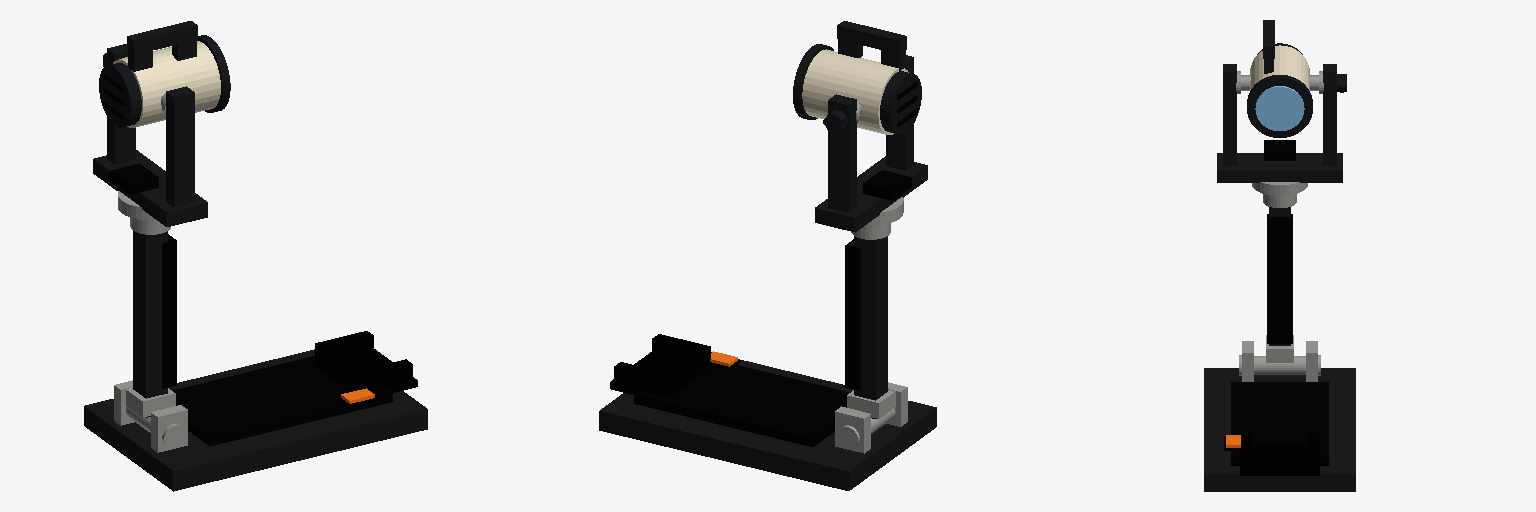
robot.urdf — desktop_searchlight_tower:
<robot name="desktop_searchlight_tower">
  <material name="graphite">
    <color rgba="0.11 0.12 0.13 1" />
    </material>
  <material name="satin_black">
    <color rgba="0.025 0.027 0.03 1" />
    </material>
  <material name="warm_white">
    <color rgba="0.92 0.88 0.78 1" />
    </material>
  <material name="brushed_steel">
    <color rgba="0.63 0.64 0.62 1" />
    </material>
  <material name="rubber">
    <color rgba="0.015 0.015 0.014 1" />
    </material>
  <material name="cool_lens">
    <color rgba="0.55 0.78 0.95 0.42" />
    </material>
  <material name="amber_switch">
    <color rgba="1 0.48 0.12 1" />
    </material>
  <link name="base">
    <visual name="base_plate">
      <origin xyz="0.04 0 0.0175" rpy="0 0 0" />
      <geometry>
        <box size="0.46 0.28 0.035" />
        </geometry>
      <material name="graphite">
        <color rgba="0.11 0.12 0.13 1" />
        </material>
      </visual>
    <visual name="top_inset">
      <origin xyz="0.07 0 0.043" rpy="0 0 0" />
      <geometry>
        <box size="0.33 0.18 0.016" />
        </geometry>
      <material name="satin_black">
        <color rgba="0.025 0.027 0.03 1" />
        </material>
      </visual>
    <visual name="hinge_ear_0">
      <origin xyz="-0.15 -0.058 0.059" rpy="0 0 0" />
      <geometry>
        <box size="0.055 0.022 0.075" />
        </geometry>
      <material name="brushed_steel">
        <color rgba="0.63 0.64 0.62 1" />
        </material>
      </visual>
    <visual name="hinge_washer_0">
      <origin xyz="-0.15 -0.07192 0.059" rpy="1.5708 0 0" />
      <geometry>
        <cylinder radius="0.019" length="0.006" />
        </geometry>
      <material name="brushed_steel">
        <color rgba="0.63 0.64 0.62 1" />
        </material>
      </visual>
    <visual name="hinge_ear_1">
      <origin xyz="-0.15 0.058 0.059" rpy="0 0 0" />
      <geometry>
        <box size="0.055 0.022 0.075" />
        </geometry>
      <material name="brushed_steel">
        <color rgba="0.63 0.64 0.62 1" />
        </material>
      </visual>
    <visual name="hinge_washer_1">
      <origin xyz="-0.15 0.07192 0.059" rpy="1.5708 0 0" />
      <geometry>
        <cylinder radius="0.019" length="0.006" />
        </geometry>
      <material name="brushed_steel">
        <color rgba="0.63 0.64 0.62 1" />
        </material>
      </visual>
    <visual name="stow_pad">
      <origin xyz="0.235 0 0.047" rpy="0 0 0" />
      <geometry>
        <box size="0.11 0.145 0.012" />
        </geometry>
      <material name="rubber">
        <color rgba="0.015 0.015 0.014 1" />
        </material>
      </visual>
    <visual name="stow_cradle_0">
      <origin xyz="0.235 -0.061 0.064" rpy="0 0 0" />
      <geometry>
        <box size="0.095 0.022 0.036" />
        </geometry>
      <material name="rubber">
        <color rgba="0.015 0.015 0.014 1" />
        </material>
      </visual>
    <visual name="stow_cradle_1">
      <origin xyz="0.235 0.061 0.064" rpy="0 0 0" />
      <geometry>
        <box size="0.095 0.022 0.036" />
        </geometry>
      <material name="rubber">
        <color rgba="0.015 0.015 0.014 1" />
        </material>
      </visual>
    <visual name="foot_-0.14_-0.1">
      <origin xyz="-0.14 -0.1 0.003" rpy="0 0 0" />
      <geometry>
        <cylinder radius="0.028" length="0.006" />
        </geometry>
      <material name="rubber">
        <color rgba="0.015 0.015 0.014 1" />
        </material>
      </visual>
    <visual name="foot_-0.14_0.1">
      <origin xyz="-0.14 0.1 0.003" rpy="0 0 0" />
      <geometry>
        <cylinder radius="0.028" length="0.006" />
        </geometry>
      <material name="rubber">
        <color rgba="0.015 0.015 0.014 1" />
        </material>
      </visual>
    <visual name="foot_0.23_-0.1">
      <origin xyz="0.23 -0.1 0.003" rpy="0 0 0" />
      <geometry>
        <cylinder radius="0.028" length="0.006" />
        </geometry>
      <material name="rubber">
        <color rgba="0.015 0.015 0.014 1" />
        </material>
      </visual>
    <visual name="foot_0.23_0.1">
      <origin xyz="0.23 0.1 0.003" rpy="0 0 0" />
      <geometry>
        <cylinder radius="0.028" length="0.006" />
        </geometry>
      <material name="rubber">
        <color rgba="0.015 0.015 0.014 1" />
        </material>
      </visual>
    <collision name="base_plate">
      <origin xyz="0.04 0 0.0175" rpy="0 0 0" />
      <geometry>
        <box size="0.46 0.28 0.035" />
        </geometry>
      </collision>
    <collision name="top_inset">
      <origin xyz="0.07 0 0.043" rpy="0 0 0" />
      <geometry>
        <box size="0.33 0.18 0.016" />
        </geometry>
      </collision>
    <collision name="hinge_ear_0">
      <origin xyz="-0.15 -0.058 0.059" rpy="0 0 0" />
      <geometry>
        <box size="0.055 0.022 0.075" />
        </geometry>
      </collision>
    <collision name="hinge_washer_0">
      <origin xyz="-0.15 -0.07192 0.059" rpy="1.5708 0 0" />
      <geometry>
        <cylinder radius="0.019" length="0.006" />
        </geometry>
      </collision>
    <collision name="hinge_ear_1">
      <origin xyz="-0.15 0.058 0.059" rpy="0 0 0" />
      <geometry>
        <box size="0.055 0.022 0.075" />
        </geometry>
      </collision>
    <collision name="hinge_washer_1">
      <origin xyz="-0.15 0.07192 0.059" rpy="1.5708 0 0" />
      <geometry>
        <cylinder radius="0.019" length="0.006" />
        </geometry>
      </collision>
    <collision name="stow_pad">
      <origin xyz="0.235 0 0.047" rpy="0 0 0" />
      <geometry>
        <box size="0.11 0.145 0.012" />
        </geometry>
      </collision>
    <collision name="stow_cradle_0">
      <origin xyz="0.235 -0.061 0.064" rpy="0 0 0" />
      <geometry>
        <box size="0.095 0.022 0.036" />
        </geometry>
      </collision>
    <collision name="stow_cradle_1">
      <origin xyz="0.235 0.061 0.064" rpy="0 0 0" />
      <geometry>
        <box size="0.095 0.022 0.036" />
        </geometry>
      </collision>
    <collision name="foot_-0.14_-0.1">
      <origin xyz="-0.14 -0.1 0.003" rpy="0 0 0" />
      <geometry>
        <cylinder radius="0.028" length="0.006" />
        </geometry>
      </collision>
    <collision name="foot_-0.14_0.1">
      <origin xyz="-0.14 0.1 0.003" rpy="0 0 0" />
      <geometry>
        <cylinder radius="0.028" length="0.006" />
        </geometry>
      </collision>
    <collision name="foot_0.23_-0.1">
      <origin xyz="0.23 -0.1 0.003" rpy="0 0 0" />
      <geometry>
        <cylinder radius="0.028" length="0.006" />
        </geometry>
      </collision>
    <collision name="foot_0.23_0.1">
      <origin xyz="0.23 0.1 0.003" rpy="0 0 0" />
      <geometry>
        <cylinder radius="0.028" length="0.006" />
        </geometry>
      </collision>
    </link>
  <link name="folding_mast">
    <visual name="hinge_knuckle">
      <origin xyz="0 0 0" rpy="1.5708 0 0" />
      <geometry>
        <cylinder radius="0.018" length="0.094" />
        </geometry>
      <material name="brushed_steel">
        <color rgba="0.63 0.64 0.62 1" />
        </material>
      </visual>
    <visual name="mast_tube">
      <origin xyz="0 0 0.174" rpy="0 0 0" />
      <geometry>
        <box size="0.04 0.04 0.318" />
        </geometry>
      <material name="graphite">
        <color rgba="0.11 0.12 0.13 1" />
        </material>
      </visual>
    <visual name="root_collar">
      <origin xyz="0 0 0.034" rpy="0 0 0" />
      <geometry>
        <box size="0.06 0.052 0.028" />
        </geometry>
      <material name="brushed_steel">
        <color rgba="0.63 0.64 0.62 1" />
        </material>
      </visual>
    <visual name="pan_socket">
      <origin xyz="0 0 0.35" rpy="0 0 0" />
      <geometry>
        <cylinder radius="0.032" length="0.034" />
        </geometry>
      <material name="brushed_steel">
        <color rgba="0.63 0.64 0.62 1" />
        </material>
      </visual>
    <visual name="cable_channel">
      <origin xyz="0.021 0 0.185" rpy="0 0 0" />
      <geometry>
        <box size="0.026 0.048 0.25" />
        </geometry>
      <material name="satin_black">
        <color rgba="0.025 0.027 0.03 1" />
        </material>
      </visual>
    <collision name="hinge_knuckle">
      <origin xyz="0 0 0" rpy="1.5708 0 0" />
      <geometry>
        <cylinder radius="0.018" length="0.094" />
        </geometry>
      </collision>
    <collision name="mast_tube">
      <origin xyz="0 0 0.174" rpy="0 0 0" />
      <geometry>
        <box size="0.04 0.04 0.318" />
        </geometry>
      </collision>
    <collision name="root_collar">
      <origin xyz="0 0 0.034" rpy="0 0 0" />
      <geometry>
        <box size="0.06 0.052 0.028" />
        </geometry>
      </collision>
    <collision name="pan_socket">
      <origin xyz="0 0 0.35" rpy="0 0 0" />
      <geometry>
        <cylinder radius="0.032" length="0.034" />
        </geometry>
      </collision>
    <collision name="cable_channel">
      <origin xyz="0.021 0 0.185" rpy="0 0 0" />
      <geometry>
        <box size="0.026 0.048 0.25" />
        </geometry>
      </collision>
    </link>
  <link name="pan_yoke">
    <visual name="pan_turntable">
      <origin xyz="0 0 0.011" rpy="0 0 0" />
      <geometry>
        <cylinder radius="0.052" length="0.022" />
        </geometry>
      <material name="brushed_steel">
        <color rgba="0.63 0.64 0.62 1" />
        </material>
      </visual>
    <visual name="lower_crossbar">
      <origin xyz="0 0 0.032" rpy="0 0 0" />
      <geometry>
        <box size="0.075 0.23 0.026" />
        </geometry>
      <material name="graphite">
        <color rgba="0.11 0.12 0.13 1" />
        </material>
      </visual>
    <visual name="yoke_arm_0">
      <origin xyz="0 -0.092 0.126" rpy="0 0 0" />
      <geometry>
        <box size="0.038 0.026 0.218" />
        </geometry>
      <material name="graphite">
        <color rgba="0.11 0.12 0.13 1" />
        </material>
      </visual>
    <visual name="bearing_cup_0">
      <origin xyz="0 -0.076 0.205" rpy="1.5708 0 0" />
      <geometry>
        <cylinder radius="0.021" length="0.01" />
        </geometry>
      <material name="brushed_steel">
        <color rgba="0.63 0.64 0.62 1" />
        </material>
      </visual>
    <visual name="yoke_arm_1">
      <origin xyz="0 0.092 0.126" rpy="0 0 0" />
      <geometry>
        <box size="0.038 0.026 0.218" />
        </geometry>
      <material name="graphite">
        <color rgba="0.11 0.12 0.13 1" />
        </material>
      </visual>
    <visual name="bearing_cup_1">
      <origin xyz="0 0.076 0.205" rpy="1.5708 0 0" />
      <geometry>
        <cylinder radius="0.021" length="0.01" />
        </geometry>
      <material name="brushed_steel">
        <color rgba="0.63 0.64 0.62 1" />
        </material>
      </visual>
    <visual name="pan_stop_block">
      <origin xyz="-0.03 0 0.054" rpy="0 0 0" />
      <geometry>
        <box size="0.055 0.06 0.018" />
        </geometry>
      <material name="satin_black">
        <color rgba="0.025 0.027 0.03 1" />
        </material>
      </visual>
    <collision name="pan_turntable">
      <origin xyz="0 0 0.011" rpy="0 0 0" />
      <geometry>
        <cylinder radius="0.052" length="0.022" />
        </geometry>
      </collision>
    <collision name="lower_crossbar">
      <origin xyz="0 0 0.032" rpy="0 0 0" />
      <geometry>
        <box size="0.075 0.23 0.026" />
        </geometry>
      </collision>
    <collision name="yoke_arm_0">
      <origin xyz="0 -0.092 0.126" rpy="0 0 0" />
      <geometry>
        <box size="0.038 0.026 0.218" />
        </geometry>
      </collision>
    <collision name="bearing_cup_0">
      <origin xyz="0 -0.076 0.205" rpy="1.5708 0 0" />
      <geometry>
        <cylinder radius="0.021" length="0.01" />
        </geometry>
      </collision>
    <collision name="yoke_arm_1">
      <origin xyz="0 0.092 0.126" rpy="0 0 0" />
      <geometry>
        <box size="0.038 0.026 0.218" />
        </geometry>
      </collision>
    <collision name="bearing_cup_1">
      <origin xyz="0 0.076 0.205" rpy="1.5708 0 0" />
      <geometry>
        <cylinder radius="0.021" length="0.01" />
        </geometry>
      </collision>
    <collision name="pan_stop_block">
      <origin xyz="-0.03 0 0.054" rpy="0 0 0" />
      <geometry>
        <box size="0.055 0.06 0.018" />
        </geometry>
      </collision>
    </link>
  <link name="spotlight_head">
    <visual name="housing_shell">
      <origin xyz="0.025 0 0" rpy="0 1.5708 0" />
      <geometry>
        <cylinder radius="0.055" length="0.14" />
        </geometry>
      <material name="warm_white">
        <color rgba="0.92 0.88 0.78 1" />
        </material>
      </visual>
    <visual name="rear_cap">
      <origin xyz="-0.055 0 0" rpy="0 1.5708 0" />
      <geometry>
        <cylinder radius="0.05" length="0.02" />
        </geometry>
      <material name="graphite">
        <color rgba="0.11 0.12 0.13 1" />
        </material>
      </visual>
    <visual name="front_bezel">
      <origin xyz="0.102 0 0" rpy="0 1.5708 0" />
      <geometry>
        <mesh filename="assets/meshes/spotlight_front_bezel.obj" />
        </geometry>
      <material name="graphite">
        <color rgba="0.11 0.12 0.13 1" />
        </material>
      </visual>
    <visual name="front_lens">
      <origin xyz="0.111 0 0" rpy="0 1.5708 0" />
      <geometry>
        <cylinder radius="0.045" length="0.006" />
        </geometry>
      <material name="cool_lens">
        <color rgba="0.55 0.78 0.95 0.42" />
        </material>
      </visual>
    <visual name="reflector_bowl">
      <origin xyz="0.076 0 0" rpy="0 1.5708 0" />
      <geometry>
        <cylinder radius="0.038" length="0.01" />
        </geometry>
      <material name="brushed_steel">
        <color rgba="0.63 0.64 0.62 1" />
        </material>
      </visual>
    <visual name="trunnion_0">
      <origin xyz="0 -0.062 0" rpy="1.5708 0 0" />
      <geometry>
        <cylinder radius="0.014" length="0.018" />
        </geometry>
      <material name="brushed_steel">
        <color rgba="0.63 0.64 0.62 1" />
        </material>
      </visual>
    <visual name="trunnion_1">
      <origin xyz="0 0.062 0" rpy="1.5708 0 0" />
      <geometry>
        <cylinder radius="0.014" length="0.018" />
        </geometry>
      <material name="brushed_steel">
        <color rgba="0.63 0.64 0.62 1" />
        </material>
      </visual>
    <visual name="handle_post_0">
      <origin xyz="-0.03 -0.02 0.068" rpy="0 0 0" />
      <geometry>
        <box size="0.035 0.018 0.036" />
        </geometry>
      <material name="graphite">
        <color rgba="0.11 0.12 0.13 1" />
        </material>
      </visual>
    <visual name="handle_post_1">
      <origin xyz="0.05 -0.02 0.068" rpy="0 0 0" />
      <geometry>
        <box size="0.035 0.018 0.036" />
        </geometry>
      <material name="graphite">
        <color rgba="0.11 0.12 0.13 1" />
        </material>
      </visual>
    <visual name="top_handle">
      <origin xyz="0.01 -0.02 0.092" rpy="0 0 0" />
      <geometry>
        <box size="0.116 0.022 0.024" />
        </geometry>
      <material name="graphite">
        <color rgba="0.11 0.12 0.13 1" />
        </material>
      </visual>
    <visual name="rear_vent_-0.024">
      <origin xyz="-0.067 0 -0.024" rpy="0 0 0" />
      <geometry>
        <box size="0.004 0.062 0.006" />
        </geometry>
      <material name="satin_black">
        <color rgba="0.025 0.027 0.03 1" />
        </material>
      </visual>
    <visual name="rear_vent_0.0">
      <origin xyz="-0.067 0 0" rpy="0 0 0" />
      <geometry>
        <box size="0.004 0.062 0.006" />
        </geometry>
      <material name="satin_black">
        <color rgba="0.025 0.027 0.03 1" />
        </material>
      </visual>
    <visual name="rear_vent_0.024">
      <origin xyz="-0.067 0 0.024" rpy="0 0 0" />
      <geometry>
        <box size="0.004 0.062 0.006" />
        </geometry>
      <material name="satin_black">
        <color rgba="0.025 0.027 0.03 1" />
        </material>
      </visual>
    <collision name="housing_shell">
      <origin xyz="0.025 0 0" rpy="0 1.5708 0" />
      <geometry>
        <cylinder radius="0.055" length="0.14" />
        </geometry>
      </collision>
    <collision name="rear_cap">
      <origin xyz="-0.055 0 0" rpy="0 1.5708 0" />
      <geometry>
        <cylinder radius="0.05" length="0.02" />
        </geometry>
      </collision>
    <collision name="front_bezel">
      <origin xyz="0.102 0 0" rpy="0 1.5708 0" />
      <geometry>
        <mesh filename="assets/meshes/spotlight_front_bezel.obj" />
        </geometry>
      </collision>
    <collision name="front_lens">
      <origin xyz="0.111 0 0" rpy="0 1.5708 0" />
      <geometry>
        <cylinder radius="0.045" length="0.006" />
        </geometry>
      </collision>
    <collision name="reflector_bowl">
      <origin xyz="0.076 0 0" rpy="0 1.5708 0" />
      <geometry>
        <cylinder radius="0.038" length="0.01" />
        </geometry>
      </collision>
    <collision name="trunnion_0">
      <origin xyz="0 -0.062 0" rpy="1.5708 0 0" />
      <geometry>
        <cylinder radius="0.014" length="0.018" />
        </geometry>
      </collision>
    <collision name="trunnion_1">
      <origin xyz="0 0.062 0" rpy="1.5708 0 0" />
      <geometry>
        <cylinder radius="0.014" length="0.018" />
        </geometry>
      </collision>
    <collision name="handle_post_0">
      <origin xyz="-0.03 -0.02 0.068" rpy="0 0 0" />
      <geometry>
        <box size="0.035 0.018 0.036" />
        </geometry>
      </collision>
    <collision name="handle_post_1">
      <origin xyz="0.05 -0.02 0.068" rpy="0 0 0" />
      <geometry>
        <box size="0.035 0.018 0.036" />
        </geometry>
      </collision>
    <collision name="top_handle">
      <origin xyz="0.01 -0.02 0.092" rpy="0 0 0" />
      <geometry>
        <box size="0.116 0.022 0.024" />
        </geometry>
      </collision>
    <collision name="rear_vent_-0.024">
      <origin xyz="-0.067 0 -0.024" rpy="0 0 0" />
      <geometry>
        <box size="0.004 0.062 0.006" />
        </geometry>
      </collision>
    <collision name="rear_vent_0.0">
      <origin xyz="-0.067 0 0" rpy="0 0 0" />
      <geometry>
        <box size="0.004 0.062 0.006" />
        </geometry>
      </collision>
    <collision name="rear_vent_0.024">
      <origin xyz="-0.067 0 0.024" rpy="0 0 0" />
      <geometry>
        <box size="0.004 0.062 0.006" />
        </geometry>
      </collision>
    </link>
  <link name="power_switch">
    <visual name="rocker_cap">
      <origin xyz="0 0 0.0045" rpy="0 0 0" />
      <geometry>
        <box size="0.046 0.028 0.009" />
        </geometry>
      <material name="amber_switch">
        <color rgba="1 0.48 0.12 1" />
        </material>
      </visual>
    <visual name="switch_bezel">
      <origin xyz="0 0 0.0015" rpy="0 0 0" />
      <geometry>
        <box size="0.052 0.034 0.004" />
        </geometry>
      <material name="satin_black">
        <color rgba="0.025 0.027 0.03 1" />
        </material>
      </visual>
    <collision name="rocker_cap">
      <origin xyz="0 0 0.0045" rpy="0 0 0" />
      <geometry>
        <box size="0.046 0.028 0.009" />
        </geometry>
      </collision>
    <collision name="switch_bezel">
      <origin xyz="0 0 0.0015" rpy="0 0 0" />
      <geometry>
        <box size="0.052 0.034 0.004" />
        </geometry>
      </collision>
    </link>
  <link name="tilt_knob">
    <visual name="lobed_cap">
      <geometry>
        <mesh filename="assets/meshes/tilt_lock_knob.obj" />
        </geometry>
      <material name="graphite">
        <color rgba="0.11 0.12 0.13 1" />
        </material>
      </visual>
    <collision name="lobed_cap">
      <geometry>
        <mesh filename="assets/meshes/tilt_lock_knob.obj" />
        </geometry>
      </collision>
    </link>
  <joint name="base_to_mast" type="revolute">
    <origin xyz="-0.15 0 0.059" rpy="0 0 0" />
    <parent link="base" />
    <child link="folding_mast" />
    <axis xyz="0 1 0" />
    <limit effort="18" velocity="1.2" lower="0" upper="1.25" />
    </joint>
  <joint name="mast_to_yoke" type="revolute">
    <origin xyz="0 0 0.367" rpy="0 0 0" />
    <parent link="folding_mast" />
    <child link="pan_yoke" />
    <axis xyz="0 0 1" />
    <limit effort="8" velocity="1.8" lower="-2.75" upper="2.75" />
    </joint>
  <joint name="yoke_to_head" type="revolute">
    <origin xyz="0 0 0.205" rpy="0 0 0" />
    <parent link="pan_yoke" />
    <child link="spotlight_head" />
    <axis xyz="0 1 0" />
    <limit effort="5" velocity="1.5" lower="-1.25" upper="1.25" />
    </joint>
  <joint name="base_to_switch" type="revolute">
    <origin xyz="0.175 -0.085 0.051" rpy="0 0 0" />
    <parent link="base" />
    <child link="power_switch" />
    <axis xyz="0 1 0" />
    <limit effort="0.4" velocity="5" lower="-0.18" upper="0.18" />
    </joint>
  <joint name="yoke_to_knob" type="continuous">
    <origin xyz="0 0.105 0.205" rpy="-1.5708 0 0" />
    <parent link="pan_yoke" />
    <child link="tilt_knob" />
    <axis xyz="0 0 1" />
    <limit effort="0.25" velocity="8" />
    </joint>
  </robot>

--- What the picture shows (computed from the rendered views, not written in the file) ---
Views: 3 orthographic renders of the robot side by side, from view 1: azimuth 30°, elevation 25°; view 2: azimuth 150°, elevation 25°; view 3: azimuth 270°, elevation 25°.
Robot: desktop_searchlight_tower — 6 links, 5 joints (4 revolute, 1 continuous); root link base; default pose: all joints at 0.
Links seen in each view (by area): view 1: base, spotlight_head, pan_yoke, folding_mast; view 2: base, spotlight_head, folding_mast, pan_yoke; view 3: base, pan_yoke, spotlight_head, folding_mast.
Link boxes in pixels (box(x1,y1,x2,y2)): base: box(84, 331, 427, 491); spotlight_head: box(99, 21, 230, 127); pan_yoke: box(93, 44, 207, 226); folding_mast: box(126, 218, 176, 432); base: box(599, 334, 936, 490); spotlight_head: box(793, 21, 921, 134); folding_mast: box(845, 223, 895, 433); pan_yoke: box(815, 55, 927, 232); base: box(1204, 341, 1355, 491); pan_yoke: box(1217, 64, 1342, 195); spotlight_head: box(1241, 20, 1318, 137); folding_mast: box(1254, 194, 1305, 374).
Bounding box of the posed robot: 0.509 × 0.28 × 0.735 m (x, y, z).
Meshes: 2 distinct files referenced, 2 mesh visuals loaded (2 OBJ).
